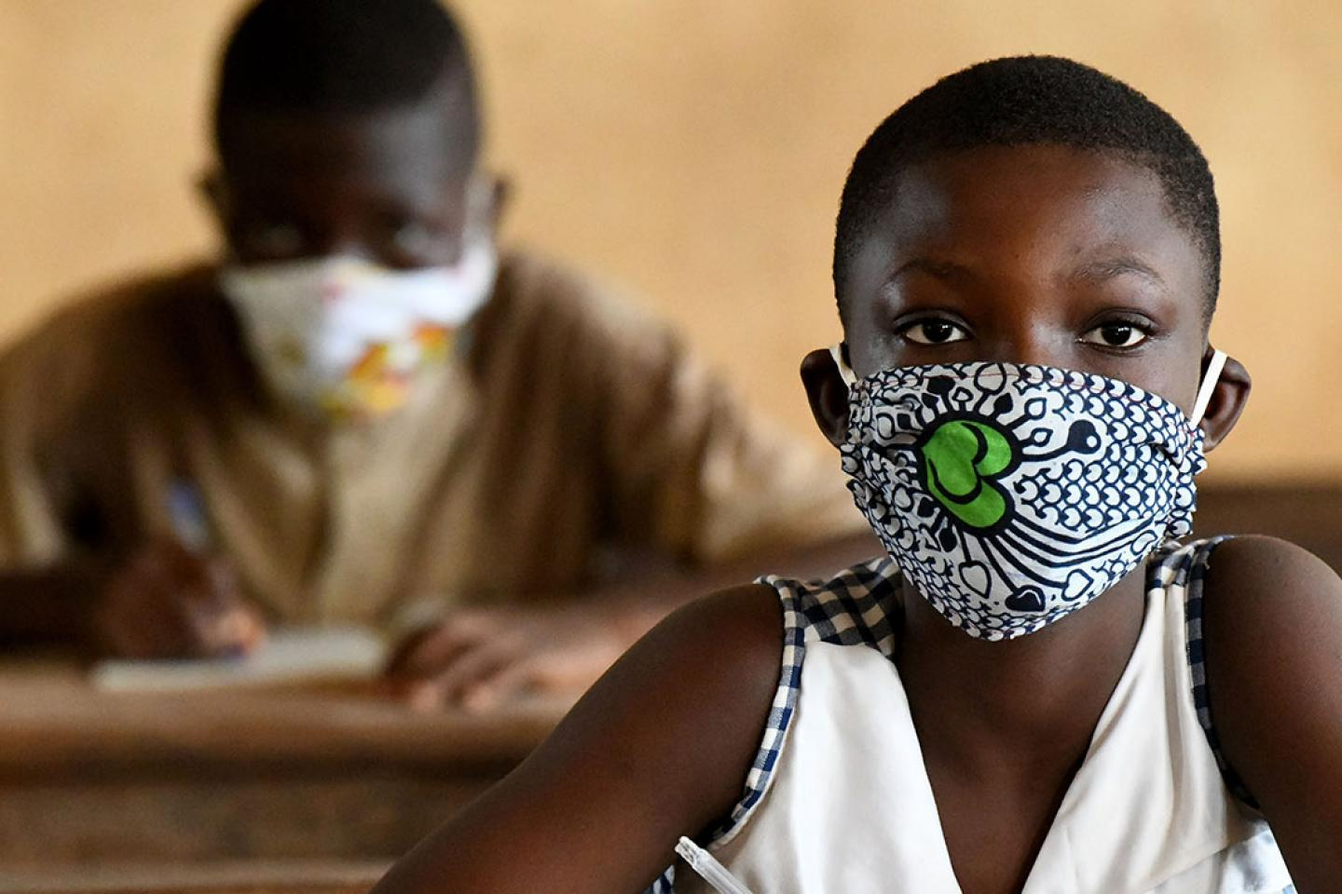OK: (841, 273, 1210, 609), (212, 156, 467, 405)
